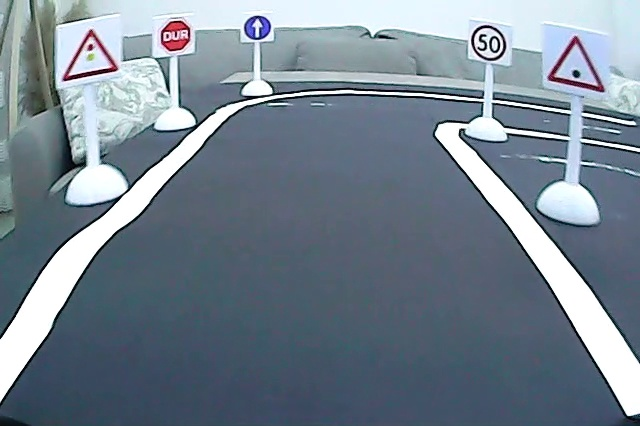green light: (541, 30, 610, 97)
red light: (56, 23, 121, 83)
speed limit 50: (468, 23, 510, 63)
stop sign: (154, 16, 196, 57)
